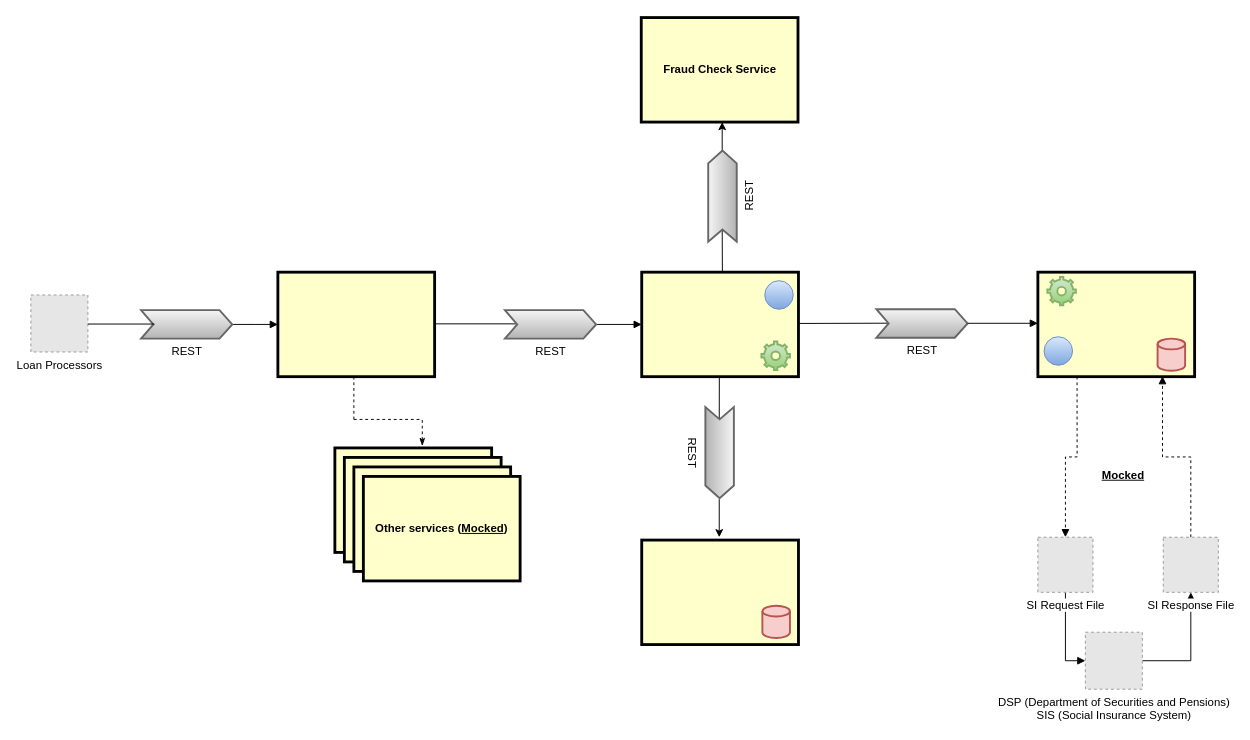
This 1250x740 diagram has some shape labels left out. Grey dashed boxes stand in for pictures. Here are the shapes that lost their labels. From the top down, the box of each, then its label:
(276, 270, 436, 378): Loan Application Service
(640, 270, 799, 378): Social Insurance Workflow Service
(1036, 270, 1196, 378): Social Insurance Verification Service
(640, 538, 799, 646): Customer Service
